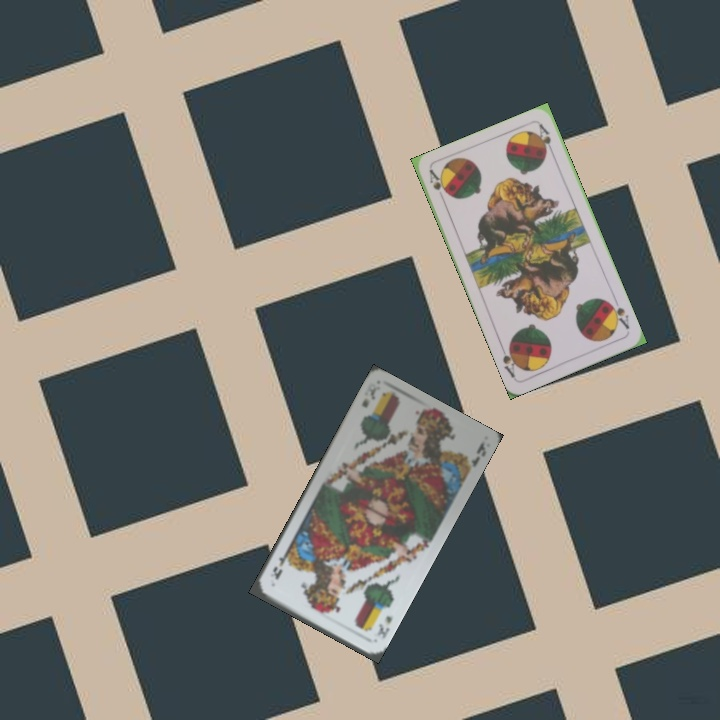EK: (373, 612, 395, 642), (358, 382, 379, 410)
SA: (604, 297, 632, 332), (425, 166, 449, 205)
